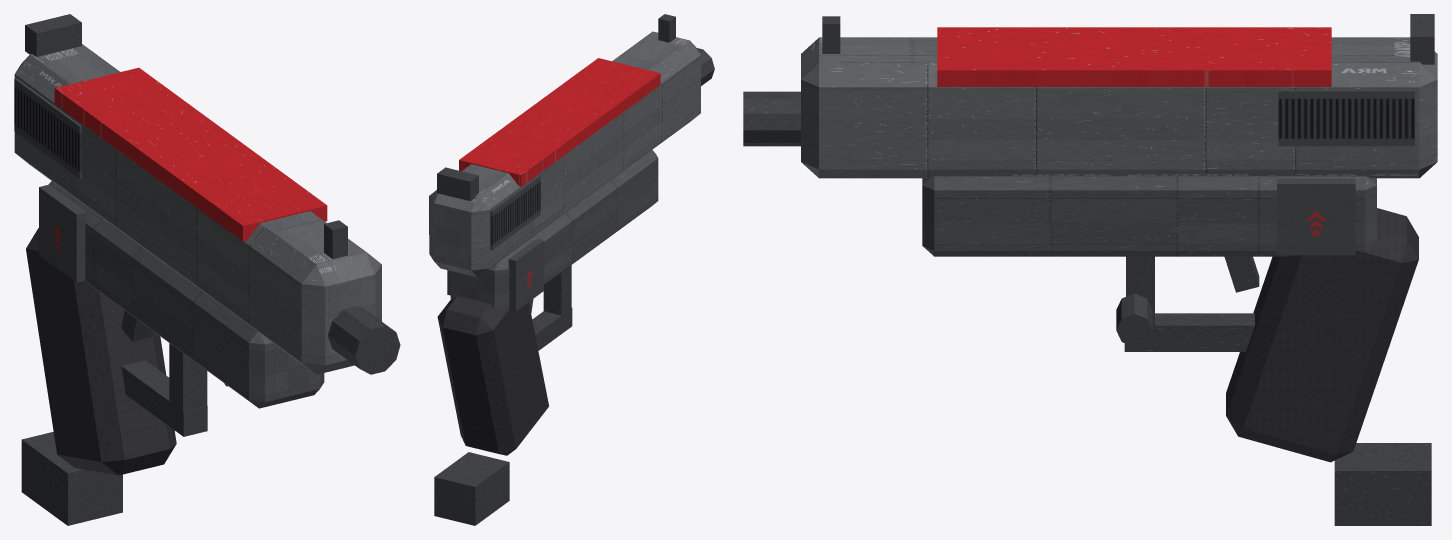
Rendered from mra_pistol.obj.
The picture shows the model from 3 angles, left to right: view 1: azimuth 30°, elevation 25°; view 2: azimuth 150°, elevation 25°; view 3: azimuth 270°, elevation 25°; orthographic projection. The views are drawn at different scales.
Visible parts, largest first — view 1: mra_pistol; view 2: mra_pistol; view 3: mra_pistol.
Boxes of the visible parts, x1,y1,x2,y2 form: mra_pistol: [14, 14, 400, 525]; mra_pistol: [429, 14, 714, 525]; mra_pistol: [743, 14, 1437, 525].
Size of the model in its own units: 0.0485 by 0.179 by 0.229.
1 material, 1 textured.
